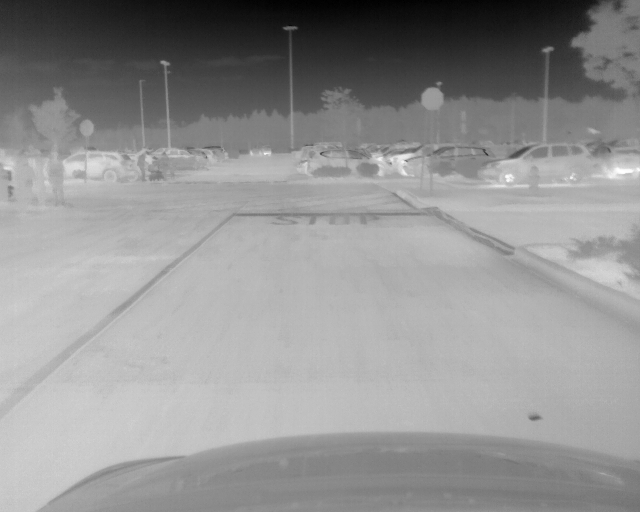car: (478, 144, 595, 182), (403, 146, 495, 178), (308, 149, 390, 180), (59, 152, 135, 182), (593, 143, 640, 177), (392, 147, 433, 164), (151, 146, 193, 157), (187, 147, 206, 164), (249, 144, 270, 156), (211, 146, 225, 163), (203, 148, 217, 164)
people: (14, 156, 36, 207), (48, 153, 67, 208), (35, 156, 47, 203), (137, 151, 147, 182), (160, 153, 170, 180), (170, 162, 176, 179)
